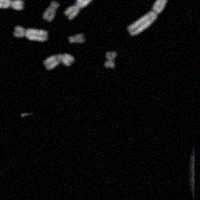chromosome: (127, 0, 168, 35), (43, 53, 74, 71), (13, 26, 47, 42), (65, 0, 94, 17), (42, 1, 59, 21), (104, 48, 115, 69), (0, 0, 23, 10), (69, 34, 86, 45)
